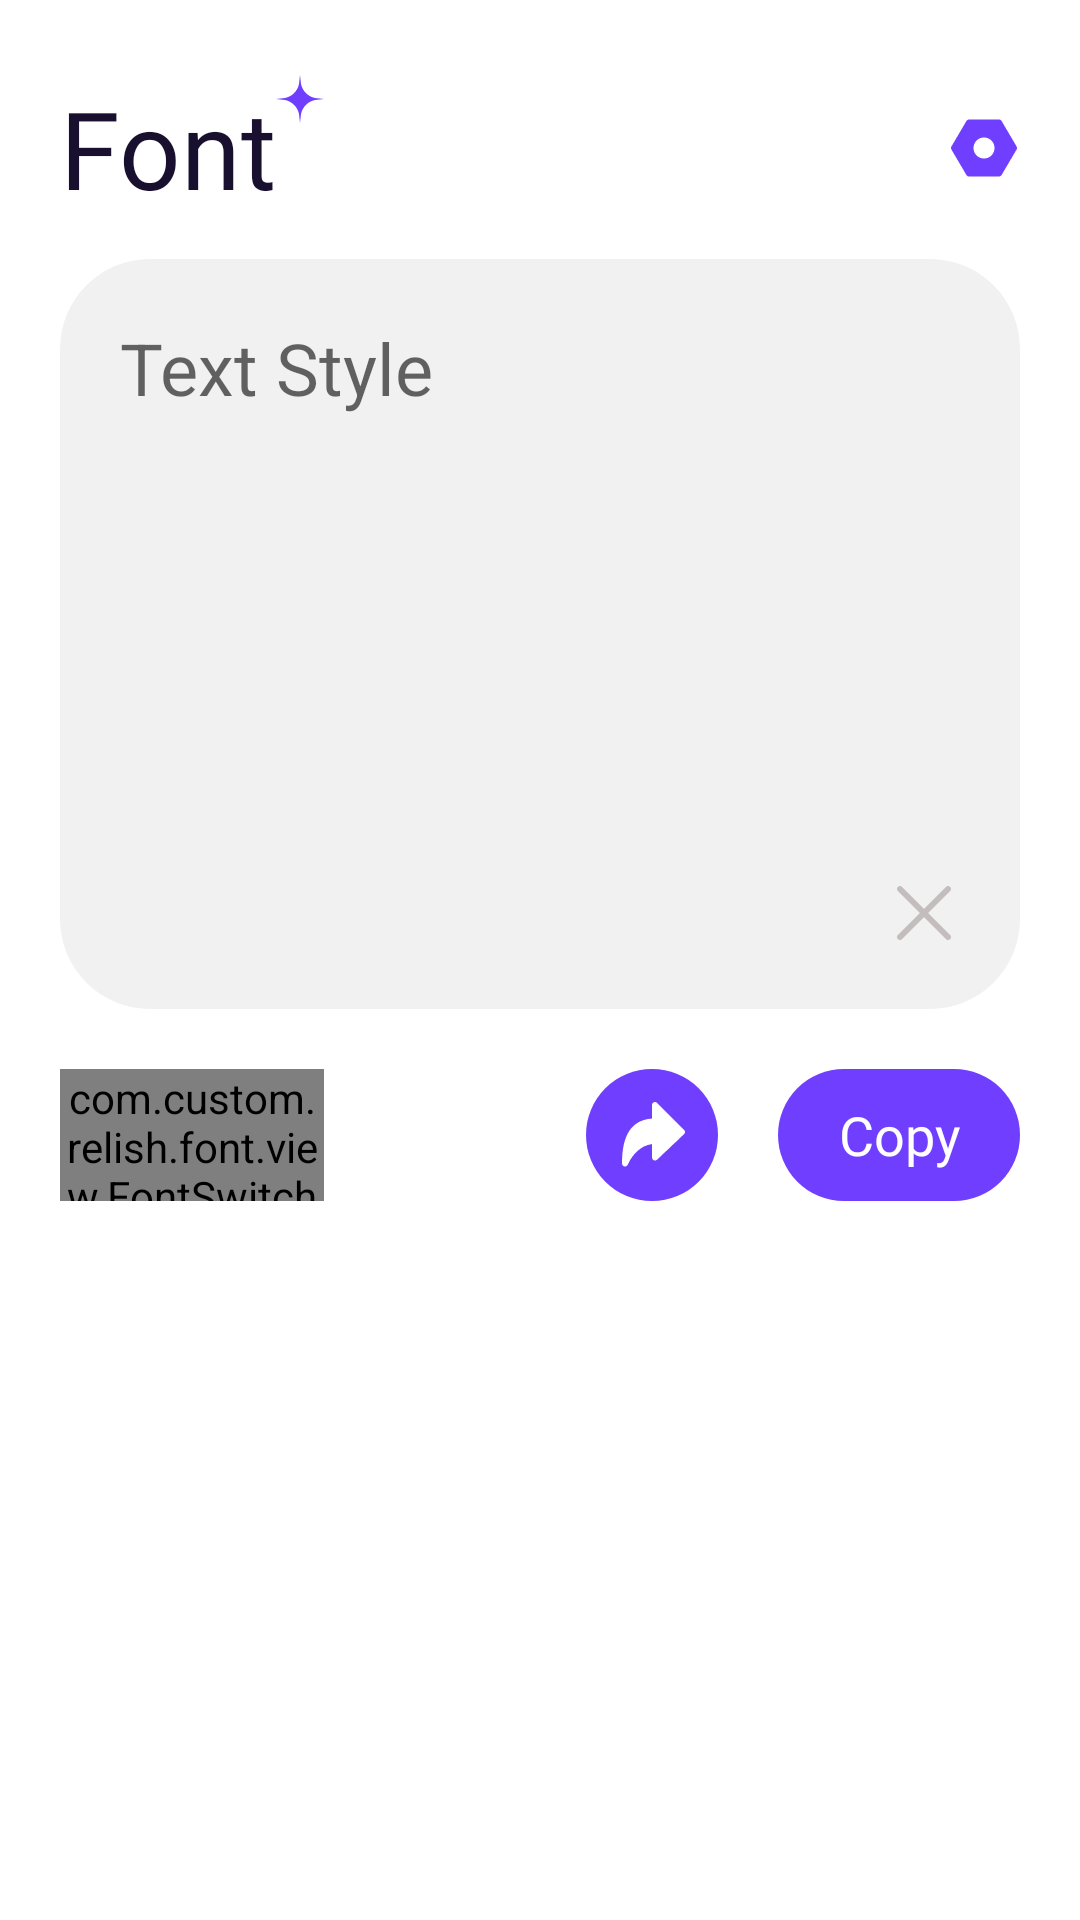

Named icons in this screenshot (1080x1920) and their centers, (x,y):
close fork: (924,913)
setting: (984,148)
share: (652,1135)
star: (300,99)
